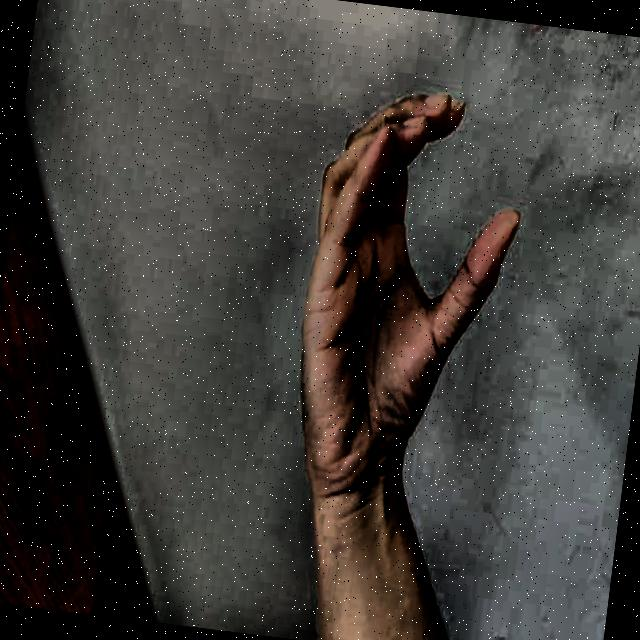A: (254, 51, 550, 526)
